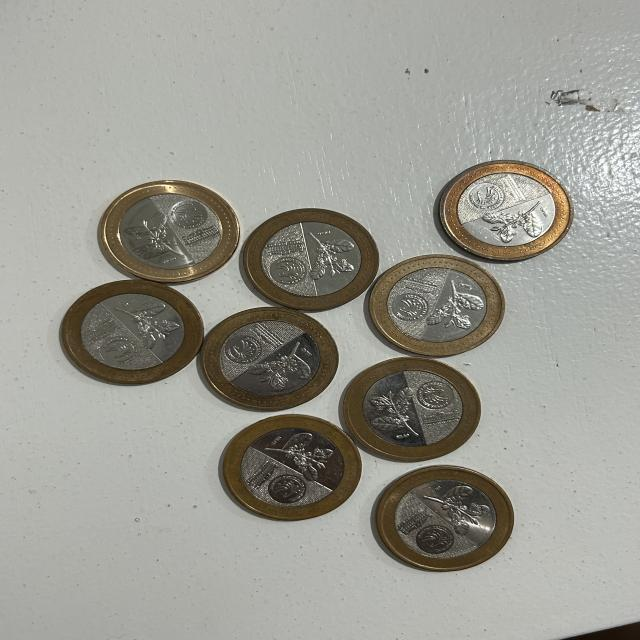20_New_Back: (424, 484, 488, 532), (368, 388, 424, 442), (274, 433, 338, 479), (427, 284, 485, 330), (254, 339, 308, 388), (120, 303, 178, 346), (308, 230, 357, 280), (488, 202, 546, 243), (126, 212, 183, 253)
